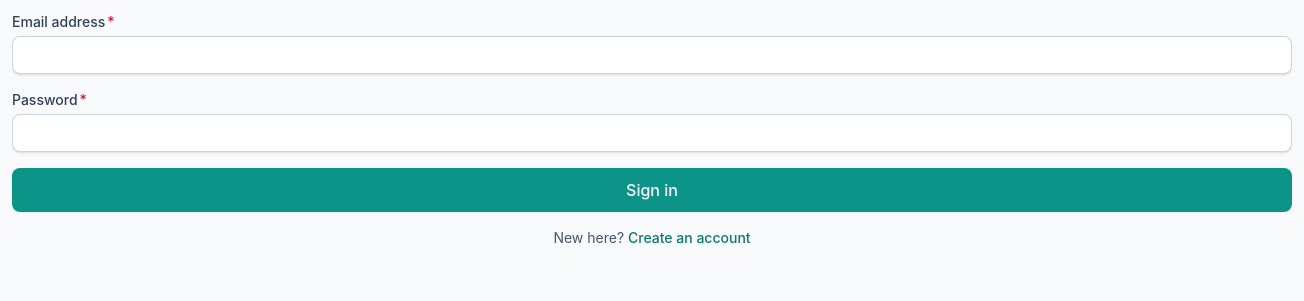
Test: LoginForm › clears the field error as soon as the user corrects it
Click the button "Sign in" at (652, 190), box [12,168,1292,212]
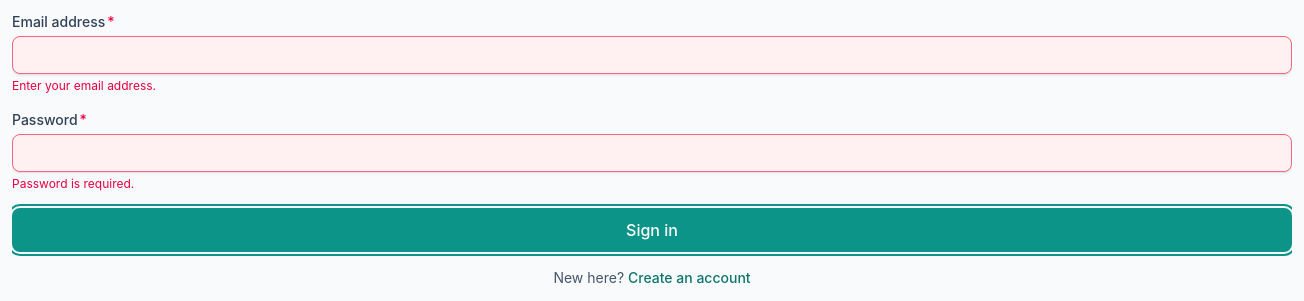
Expected: the text "Enter your email address." is shown, [12,78,156,93]
Type "a" into the field labelled "Email address*" at (652, 55), box [12,36,1292,74]
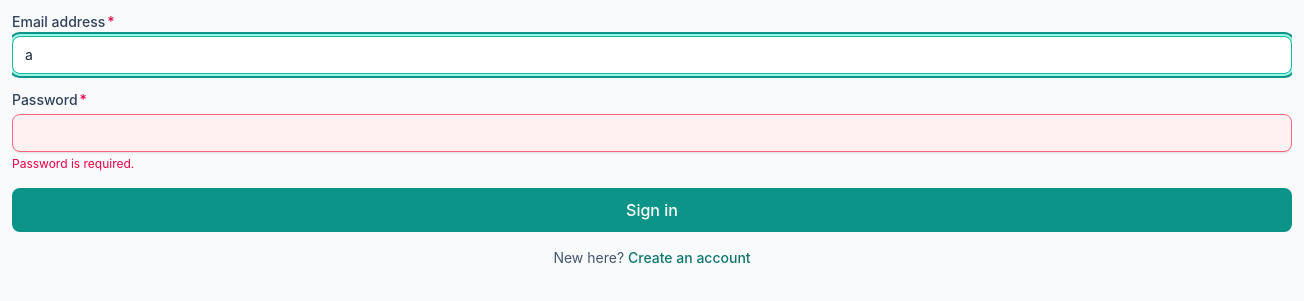
Expected: the text "Enter your email address" is gone
